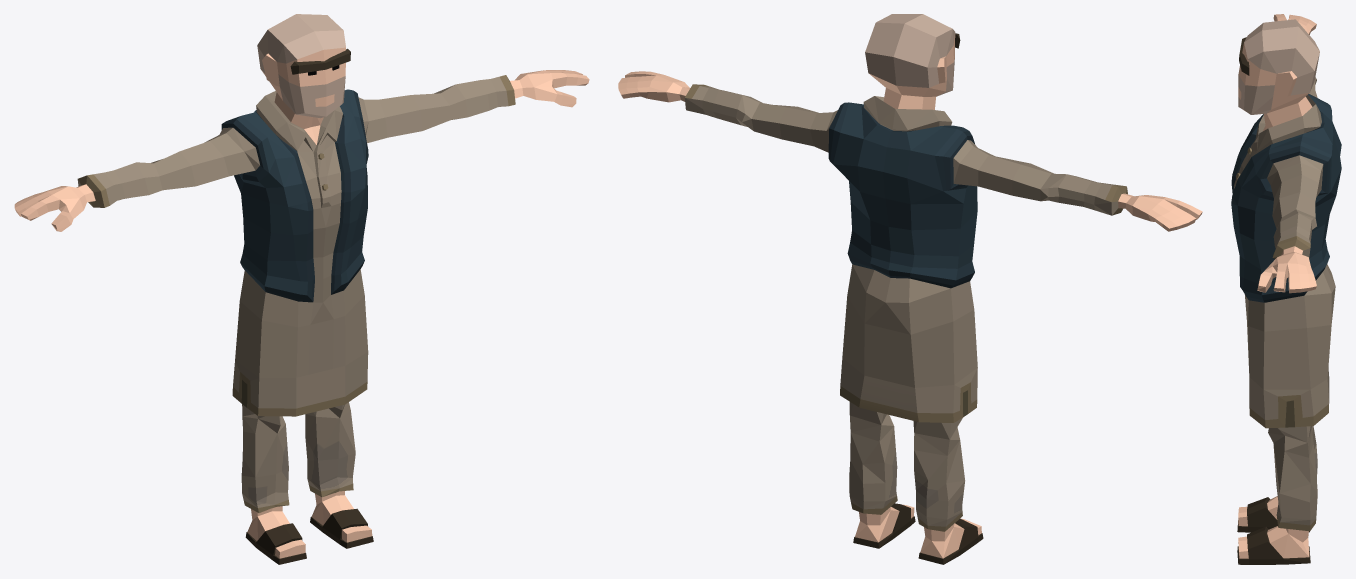
The model's file is SM_Chr_Civilian_Male_01.fbx.
3 renders of one model, left to right at view 1: azimuth 30°, elevation 25°; view 2: azimuth 150°, elevation 25°; view 3: azimuth 270°, elevation 25°, orthographic. The views are drawn at different scales.
Visible parts, largest first — view 1: SM_Chr_Civilian_Male_01; view 2: SM_Chr_Civilian_Male_01; view 3: SM_Chr_Civilian_Male_01.
Boxes of the visible parts, x1,y1,x2,y2 form: SM_Chr_Civilian_Male_01: (14,14,589,564); SM_Chr_Civilian_Male_01: (618,14,1202,564); SM_Chr_Civilian_Male_01: (1231,14,1341,564).
Bounding box in the file's own units: 205 × 179 × 34.81.
